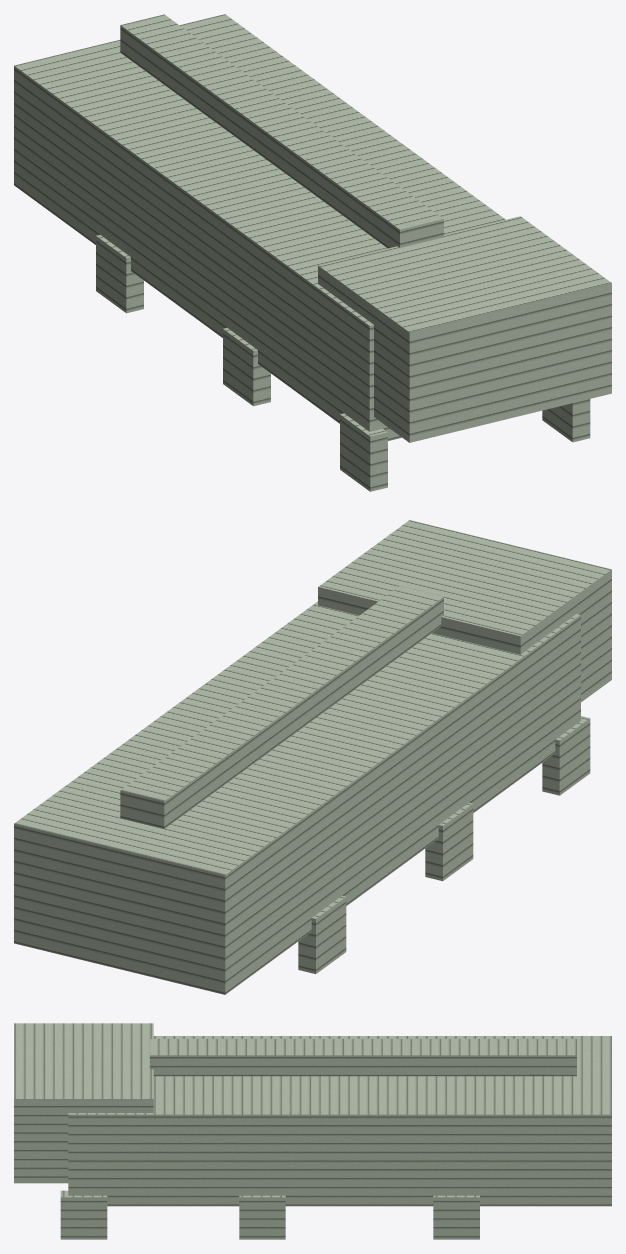
Rendered from fire_truck_pumper.glb.
3 views of the same model, one above another, from view 1: azimuth 30°, elevation 25°; view 2: azimuth 150°, elevation 25°; view 3: azimuth 270°, elevation 25° (orthographic). The views are drawn at different scales.
Parts seen in each view (by area): view 1: fire_truck_pumper-col; view 2: fire_truck_pumper-col; view 3: fire_truck_pumper-col.
Boxes of the visible parts, x1,y1,x2,y2 form: fire_truck_pumper-col: [14, 14, 611, 491]; fire_truck_pumper-col: [14, 520, 611, 994]; fire_truck_pumper-col: [14, 1023, 611, 1239].
Bounding box in the file's own units: 2.5 × 2.15 × 7.7.
1 material, 1 textured.
